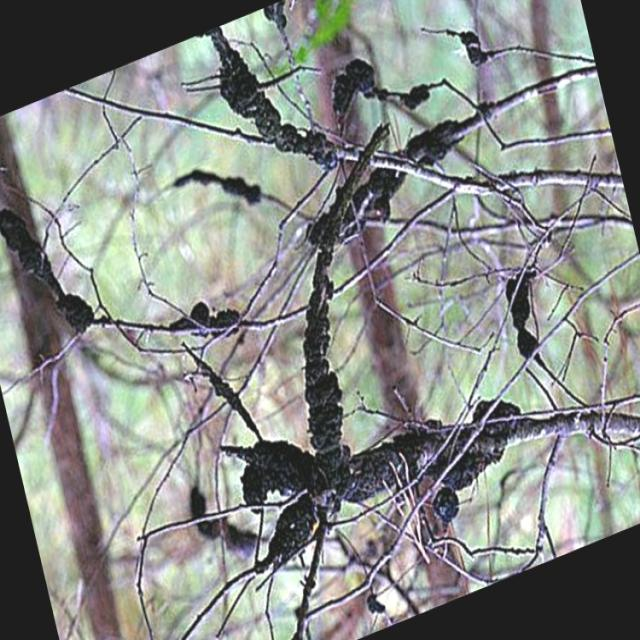Black_knot: (330, 57, 376, 117), (431, 484, 459, 523)
